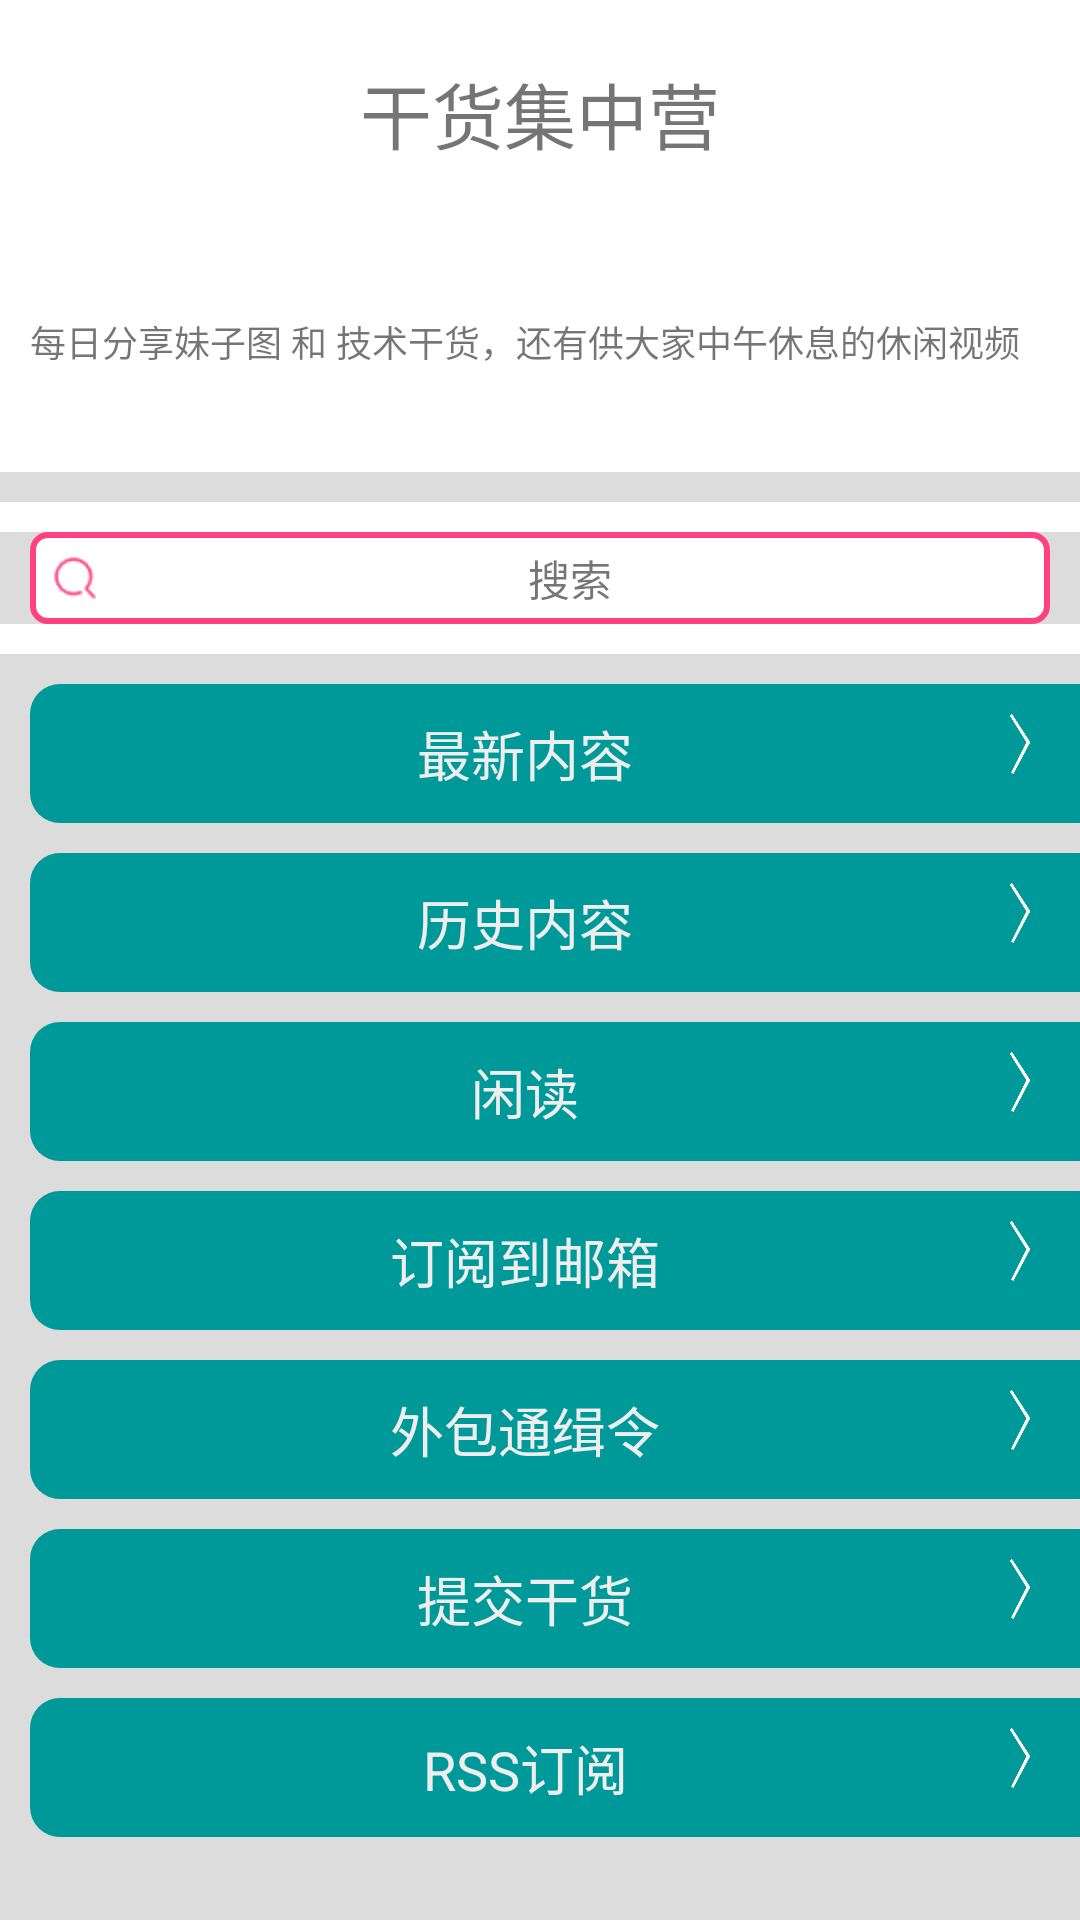

Locate icon controls on the screen. Image size 1080 × 1920, boxes as (x1, y1, x2, y2).
search: (54, 557, 96, 599)
